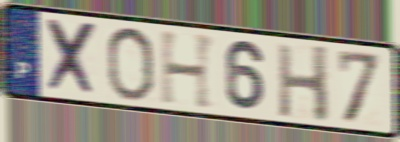6: (224, 39, 267, 113)
7: (336, 47, 383, 127)
H: (158, 29, 219, 112), (275, 42, 331, 126)
O: (104, 25, 156, 103)
X: (44, 16, 100, 100)
